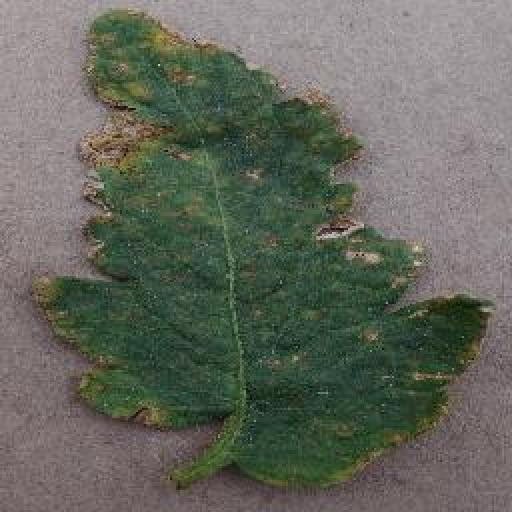Bacterial Spot: (28, 6, 492, 494)
